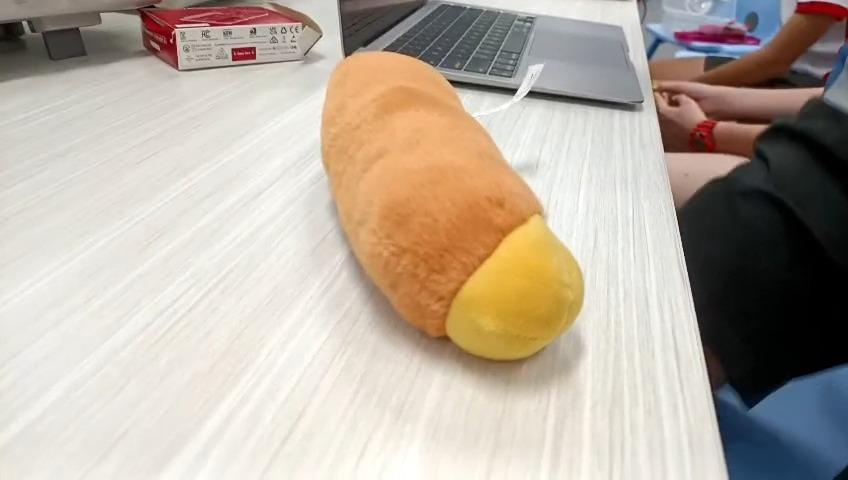hotdog: (321, 52, 586, 360)
